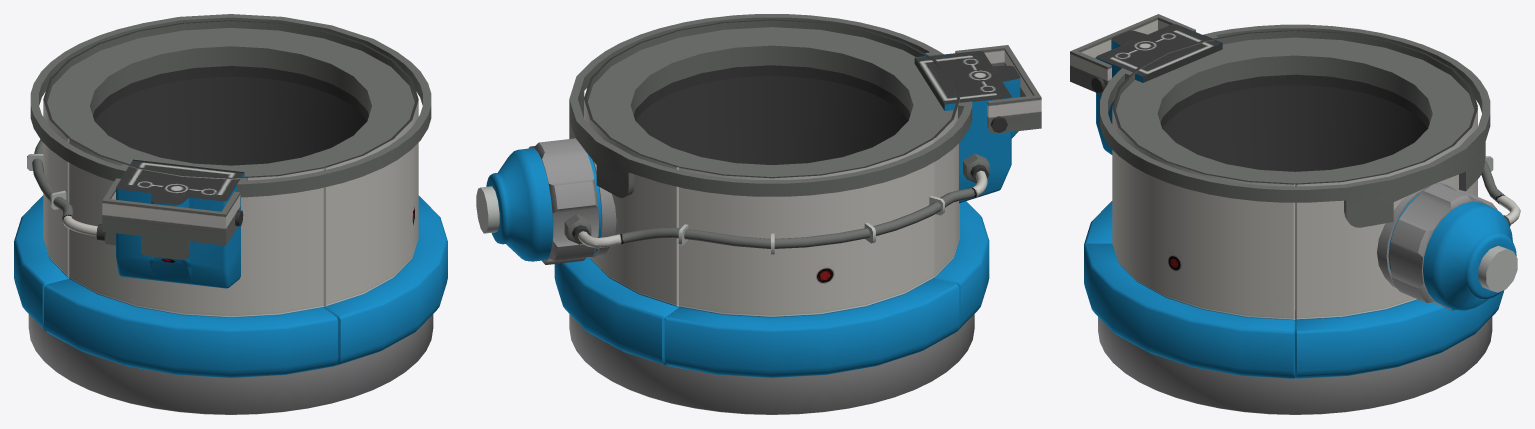
File: gel_blue.glb
The picture shows the model from 3 angles, left to right: view 1: azimuth 30°, elevation 25°; view 2: azimuth 150°, elevation 25°; view 3: azimuth 270°, elevation 25°; orthographic projection. The views are drawn at different scales.
Visible parts, largest first — view 1: EDITOR_paint_dropper.004; view 2: EDITOR_paint_dropper.004; view 3: EDITOR_paint_dropper.004.
Boxes of the visible parts, <box> form: EDITOR_paint_dropper.004: <box>14,14,447,414</box>; EDITOR_paint_dropper.004: <box>476,14,1041,414</box>; EDITOR_paint_dropper.004: <box>1070,14,1520,414</box>.
Size of the model in its own units: 1.52 by 0.894 by 1.54.
Materials: 1 (1 with a texture image).
